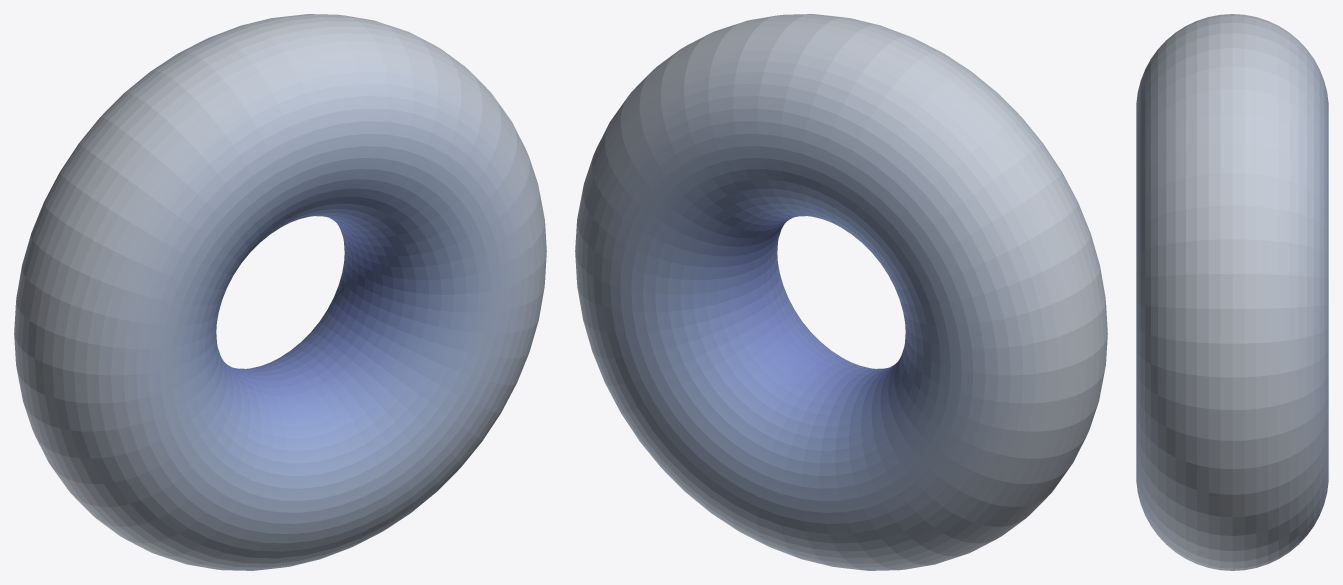
3 renders of one model, left to right at view 1: azimuth 30°, elevation 25°; view 2: azimuth 150°, elevation 25°; view 3: azimuth 270°, elevation 25°, orthographic. The views are drawn at different scales.
Parts seen in each view (by area): view 1: world; view 2: world; view 3: world.
Boxes of the visible parts, x1,y1,x2,y2 form: world: (14, 14, 546, 570); world: (575, 14, 1107, 570); world: (1136, 14, 1328, 570).
Bounding box in the file's own units: 20.4 × 20.36 × 7.05.
